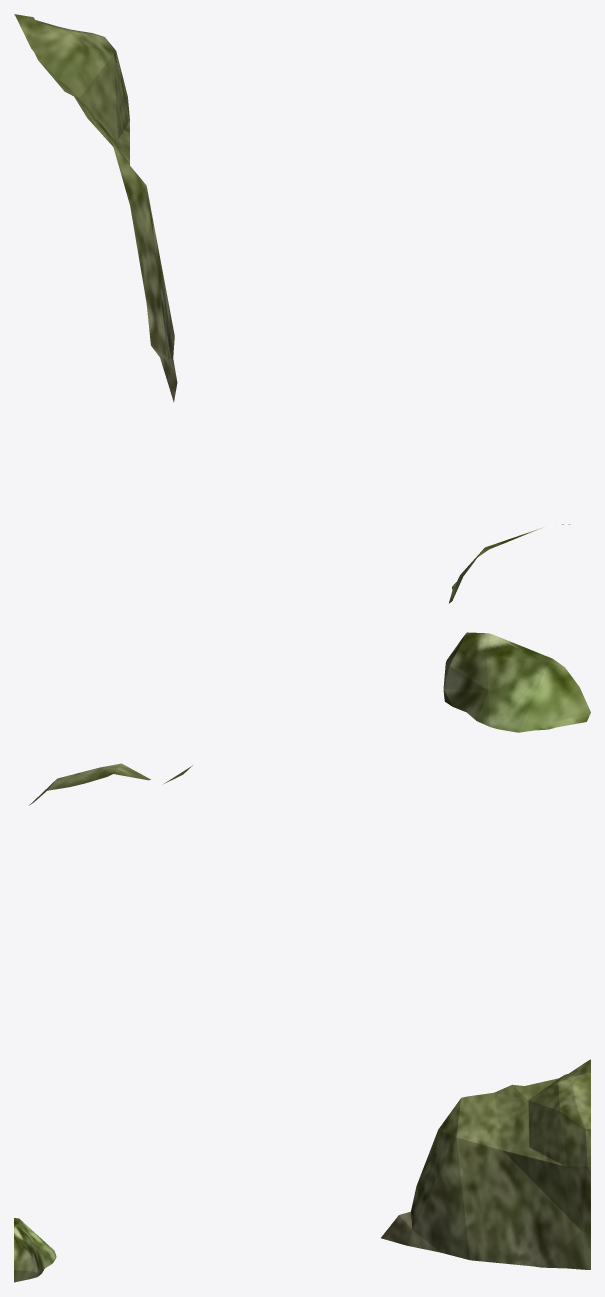
The picture shows the model from 3 angles, top to bottom: view 1: azimuth 30°, elevation 25°; view 2: azimuth 150°, elevation 25°; view 3: azimuth 270°, elevation 25°; orthographic projection. The views are drawn at different scales.
Size of the model in its own units: 0.5373 by 1.01 by 2.95.
Materials: 1 (1 with a texture image).
